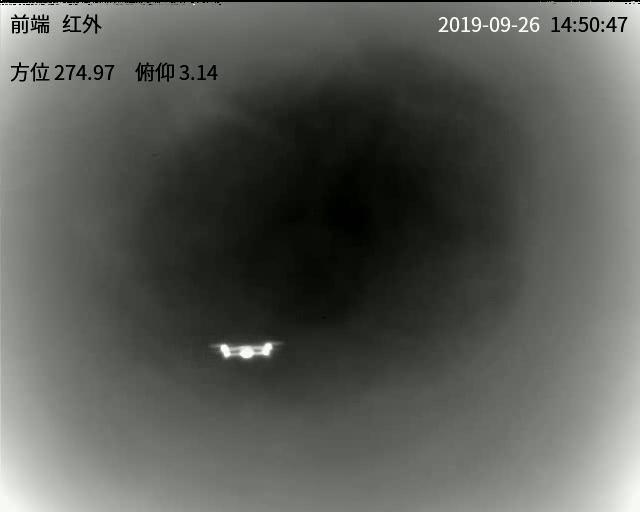DRONE: (215, 341, 274, 360)
